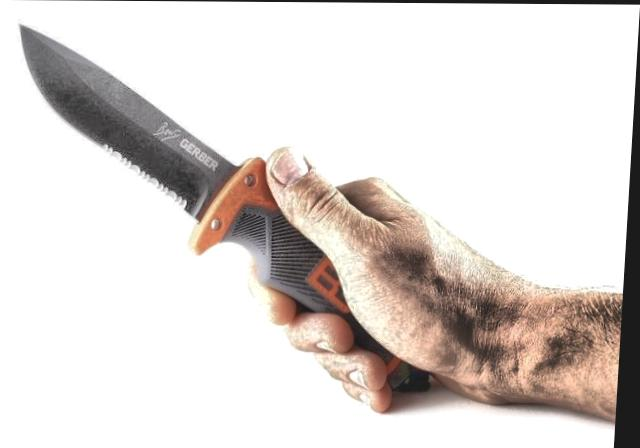knife: (0, 12, 354, 334)
